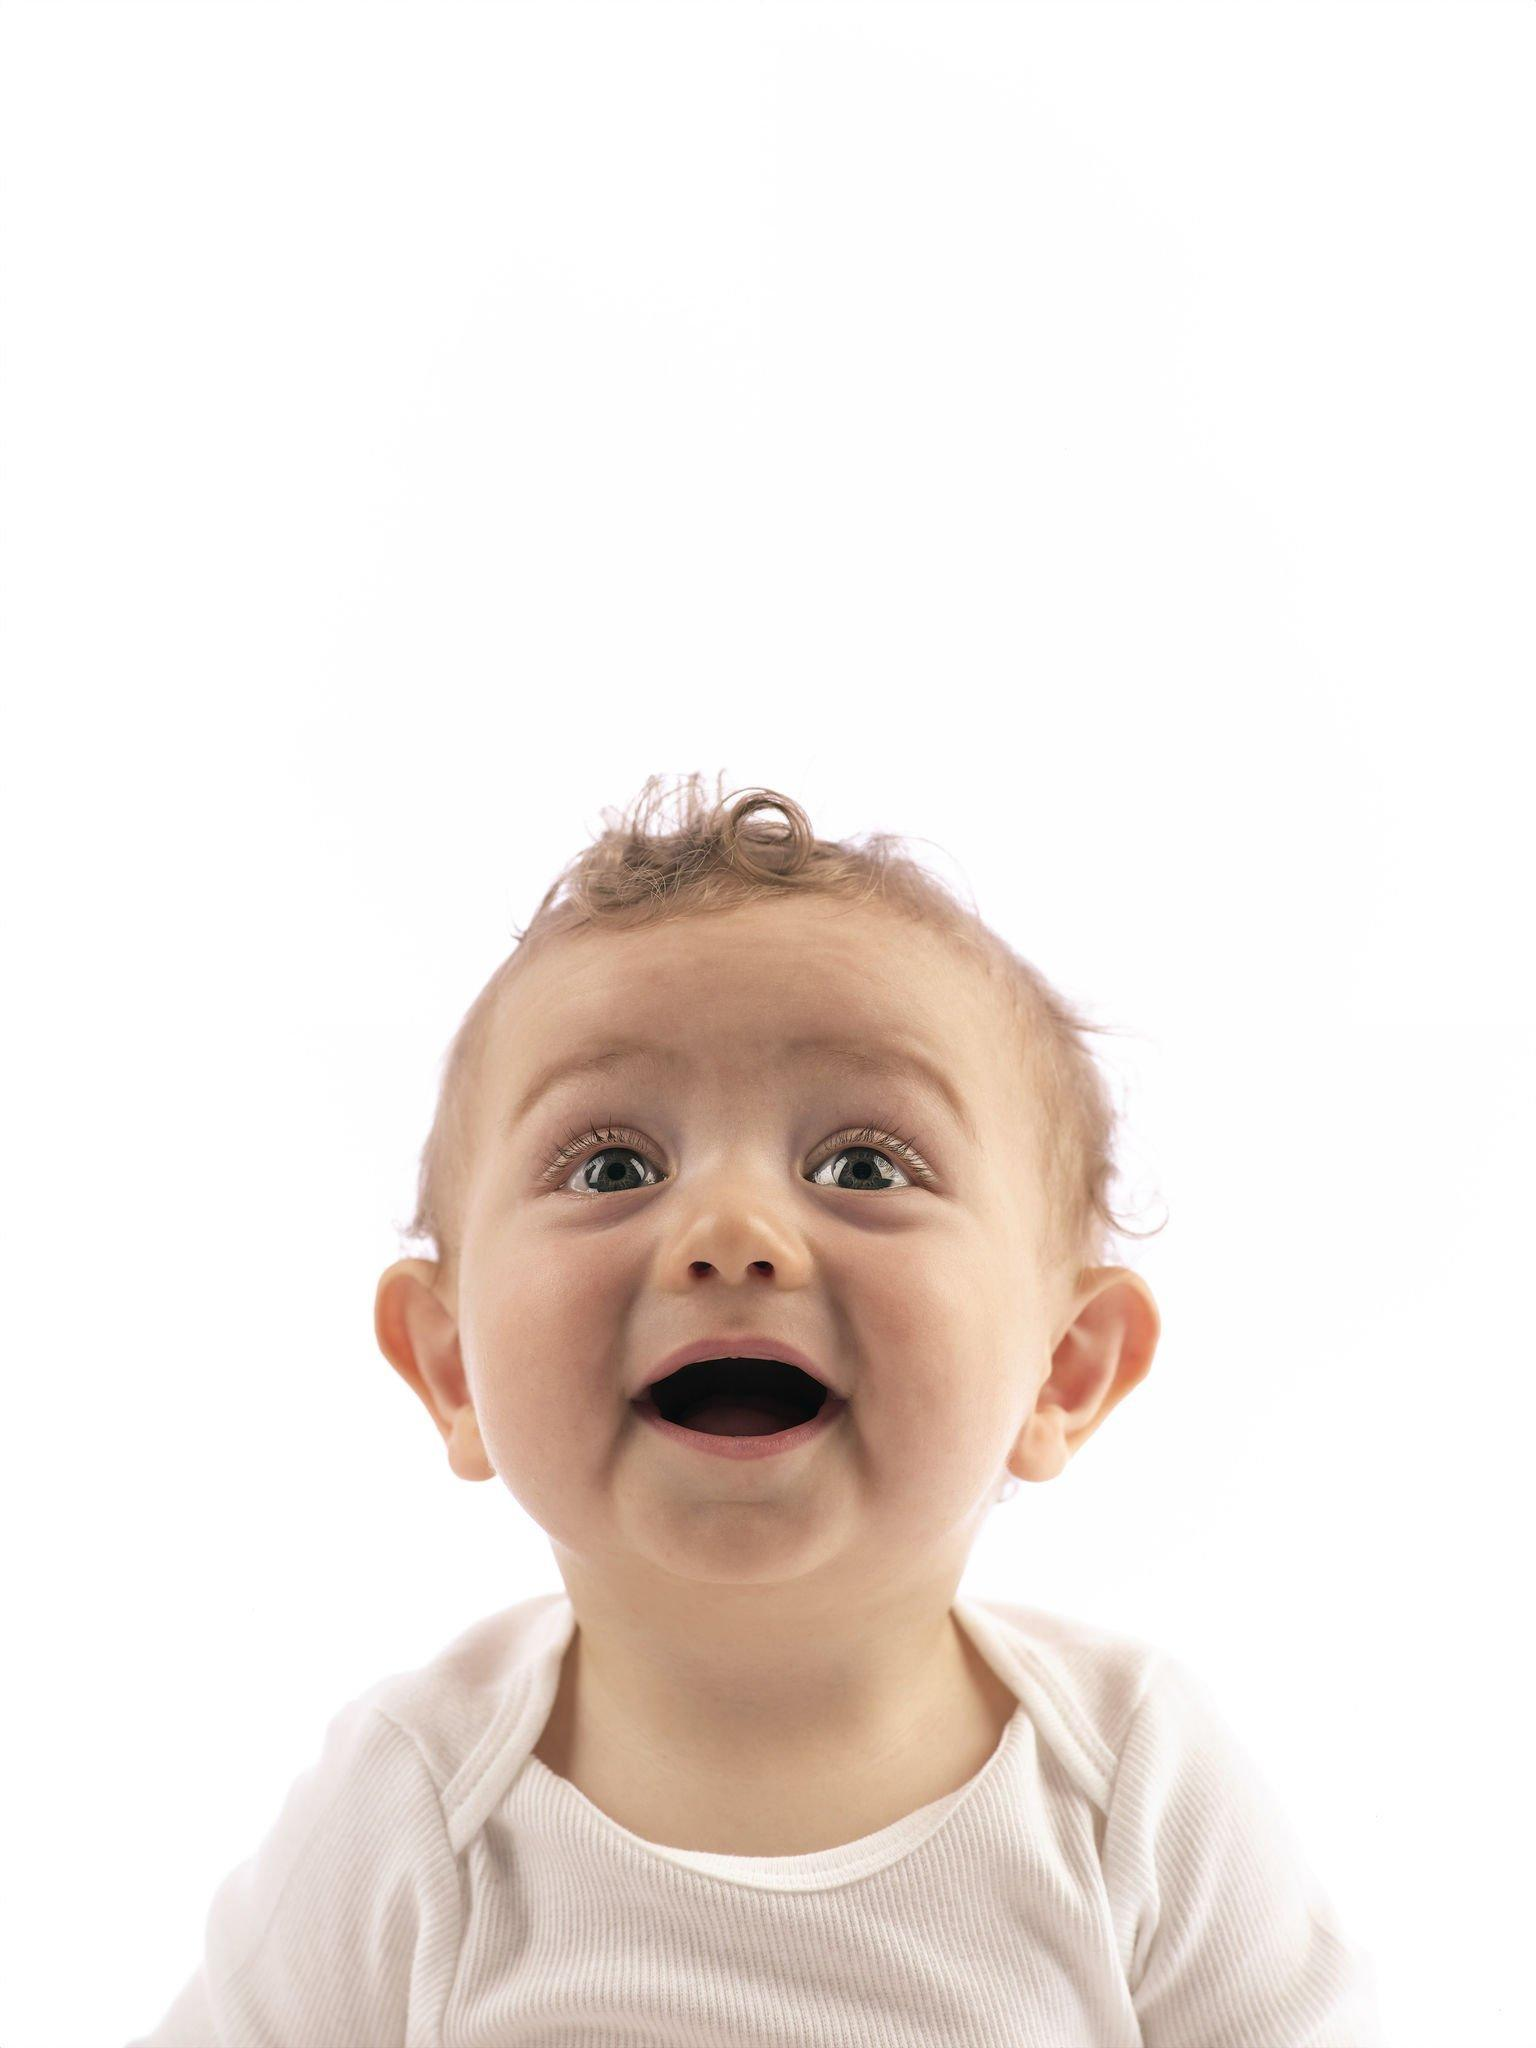Healthy: (292, 747, 1231, 1663)
